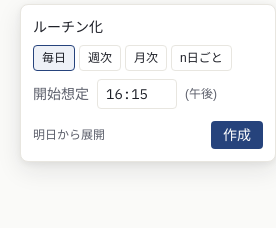
it: RoutinizePopover（画面定義書01 §4.1 / O-12: 最小の入力でタスクからルーチンを作る） › 入力の検証（§4.1: 不正なら確定させずポップオーバー内に出す） › invalid_start_time: 書式が不正
The width and height of the screenshot is (276, 228).
Replace the text in the field labelled "開始想定 (午後)" with "99:99" at (137, 94), box left=97, top=79, right=177, bottom=109
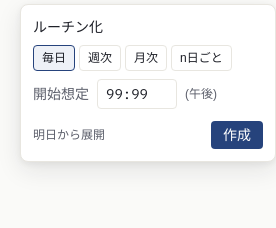
Click the button "作成" at (237, 135), box left=211, top=121, right=263, bottom=149
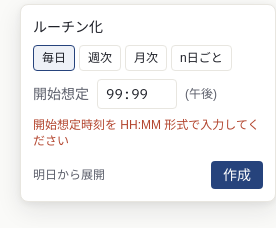
Expected: the text "開始想定時刻を HH:MM 形式で入力してください" is shown, left=33, top=117, right=263, bottom=149
